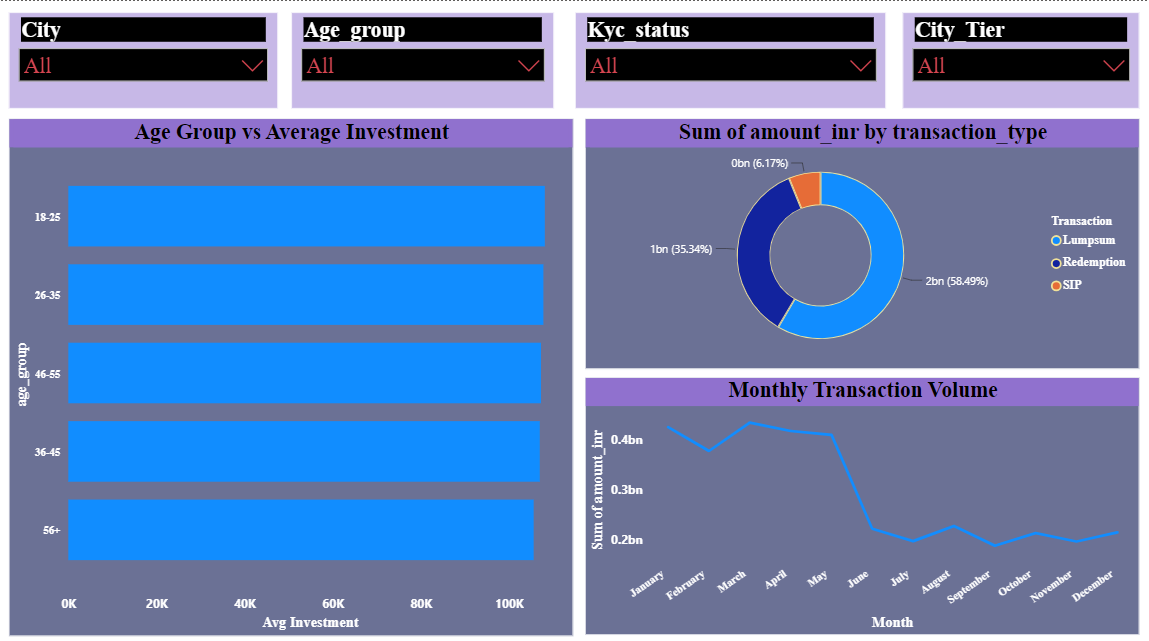

The page's visual inventory and layout, read from the dashboard file:
{"tool":"powerbi","page":{"name":"Investor Analytics","canvas":[1280,720],"ordinal":2},"visuals":[{"type":"donutChart","fields":{"Category":["08_investor_transactions.transaction_type"],"Y":["Sum(08_investor_transactions.amount_inr)"]},"box":[650.4,130.4,616.1,278.6],"z":0},{"type":"barChart","title":"Age Group vs Average Investment","fields":{"Category":["08_investor_transactions.age_group"],"Y":["01_fund_master.Avg Investment"]},"box":[9.6,130.4,627.1,575],"z":1},{"type":"lineChart","title":"Monthly Transaction Volume","fields":{"Category":["08_investor_transactions.transaction_date.Variation.Date Hierarchy.Month"],"Y":["Sum(08_investor_transactions.amount_inr)"]},"box":[650.4,418.5,616.1,286.8],"z":2},{"type":"slicer","fields":{"Values":["08_investor_transactions.age_group"]},"box":[323.8,12.3,292.3,107],"z":3},{"type":"slicer","fields":{"Values":["08_investor_transactions.city"]},"box":[9.6,12.3,299.1,107],"z":4},{"type":"slicer","fields":{"Values":["08_investor_transactions.kyc_status"]},"box":[639.5,12.3,345.8,107],"z":5},{"type":"slicer","fields":{"Values":["08_investor_transactions.city_tier"]},"box":[1003.1,12.3,263.5,107],"z":6}]}

Visuals, with their boxes in screenshot pixels (x1, y1, x2, y2), scaled from the page's 1280x720 canvas onto the 1149x641 screenshot:
donutChart - 08_investor_transactions.transaction_type x Sum(08_investor_transactions.amount_inr): 584,116,1137,364
"Age Group vs Average Investment" barChart: 9,116,572,628
"Monthly Transaction Volume" lineChart: 584,373,1137,628
slicer - 08_investor_transactions.age_group: 291,11,553,106
slicer - 08_investor_transactions.city: 9,11,277,106
slicer - 08_investor_transactions.kyc_status: 574,11,884,106
slicer - 08_investor_transactions.city_tier: 900,11,1137,106
